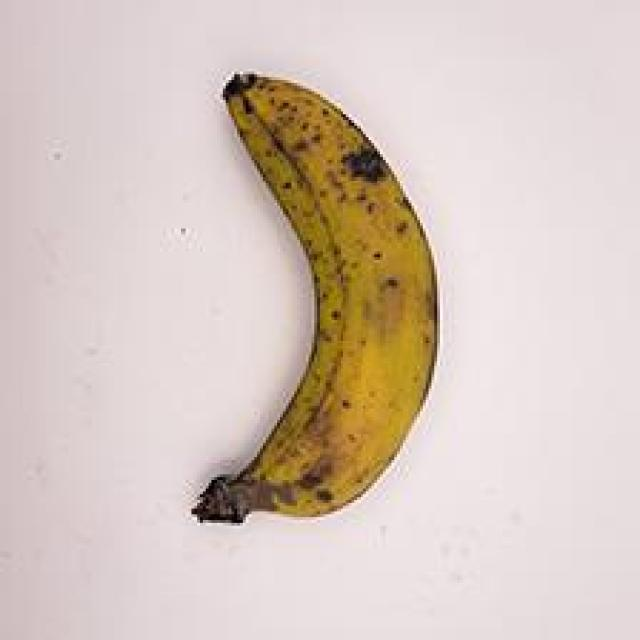Overripe: (154, 47, 476, 563)
